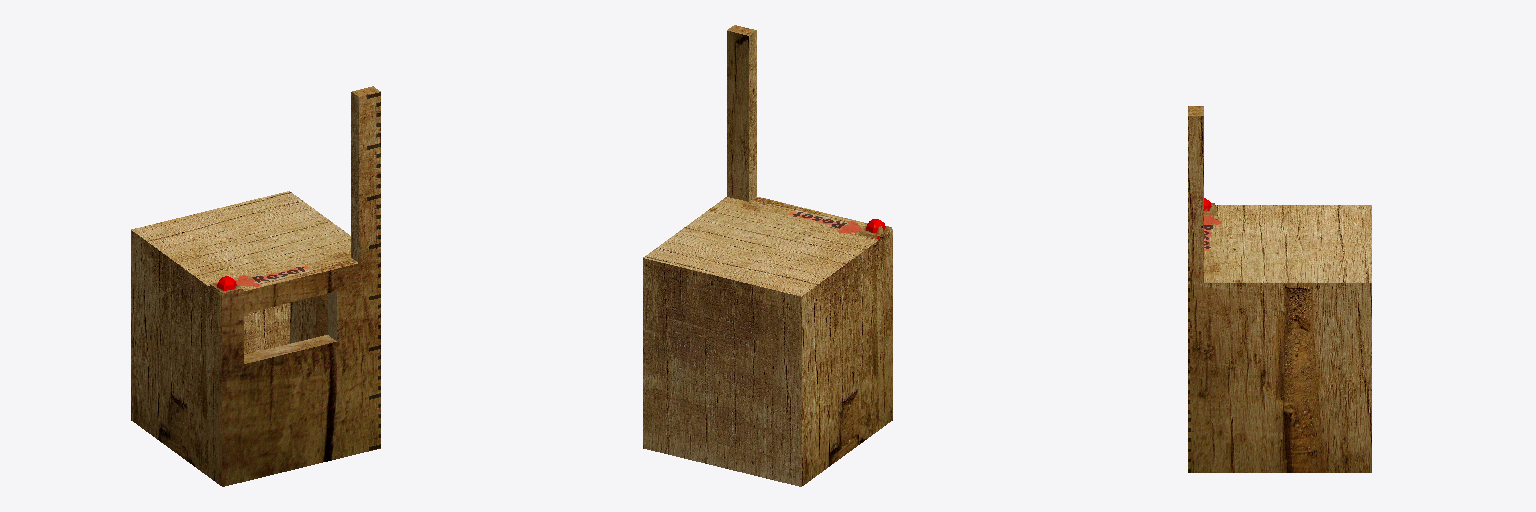
3 views of the same model, side by side, from view 1: azimuth 30°, elevation 25°; view 2: azimuth 150°, elevation 25°; view 3: azimuth 270°, elevation 25° (orthographic).
Visible parts, largest first — view 1: Cube; view 2: Cube; view 3: Cube.
Part boxes in pixels (left/top/right/bottom): Cube: left=131, top=86, right=380, bottom=486; Cube: left=643, top=25, right=892, bottom=486; Cube: left=1188, top=106, right=1371, bottom=472.
Bounding box in the file's own units: 100 × 215 × 100.
Materials: 1 (1 with a texture image).